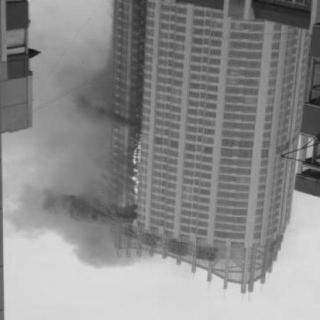Fire: (128, 138, 142, 204)
Smoke: (3, 52, 126, 274)
